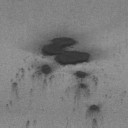iron sheet ash: (40, 36, 92, 66), (73, 70, 90, 78), (40, 64, 52, 75), (88, 104, 100, 112), (78, 83, 87, 90), (12, 82, 18, 86)
